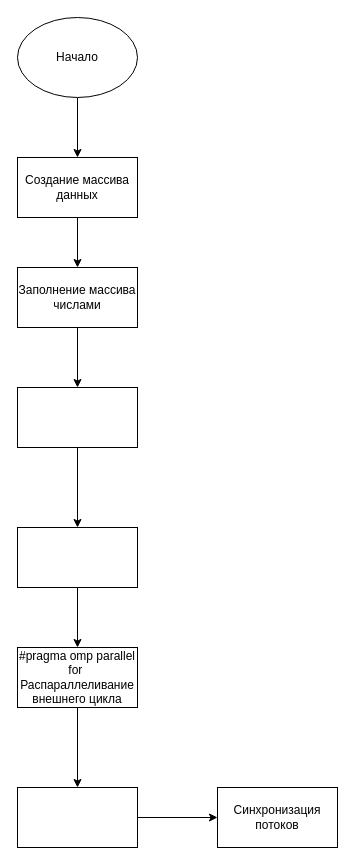
The diagram is 355 pixels wide and 865 high, and some of its shapes have lost their labels. The shapes that lost their labels are listed below. From the top down, each one's centre as x and y in pixels, then its label:
At (77,417): "Выбрать алгоритм сортировки".
At (77,557): "Инициализация параллельной области OpenMP".
At (77,817): "Каждый поток обрабатывает свою часть массива".
